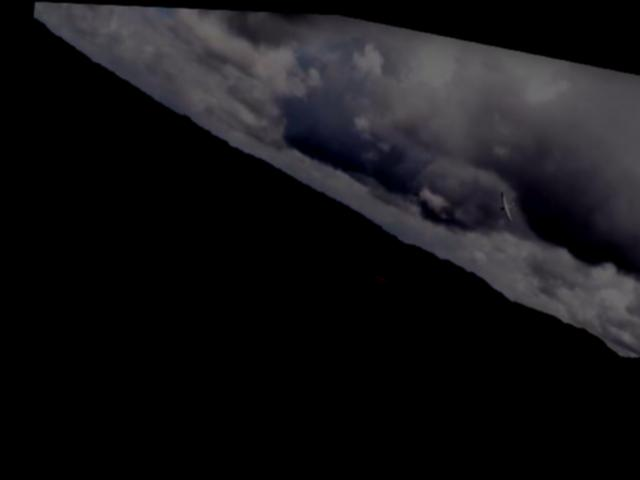iha: (494, 186, 515, 217)
